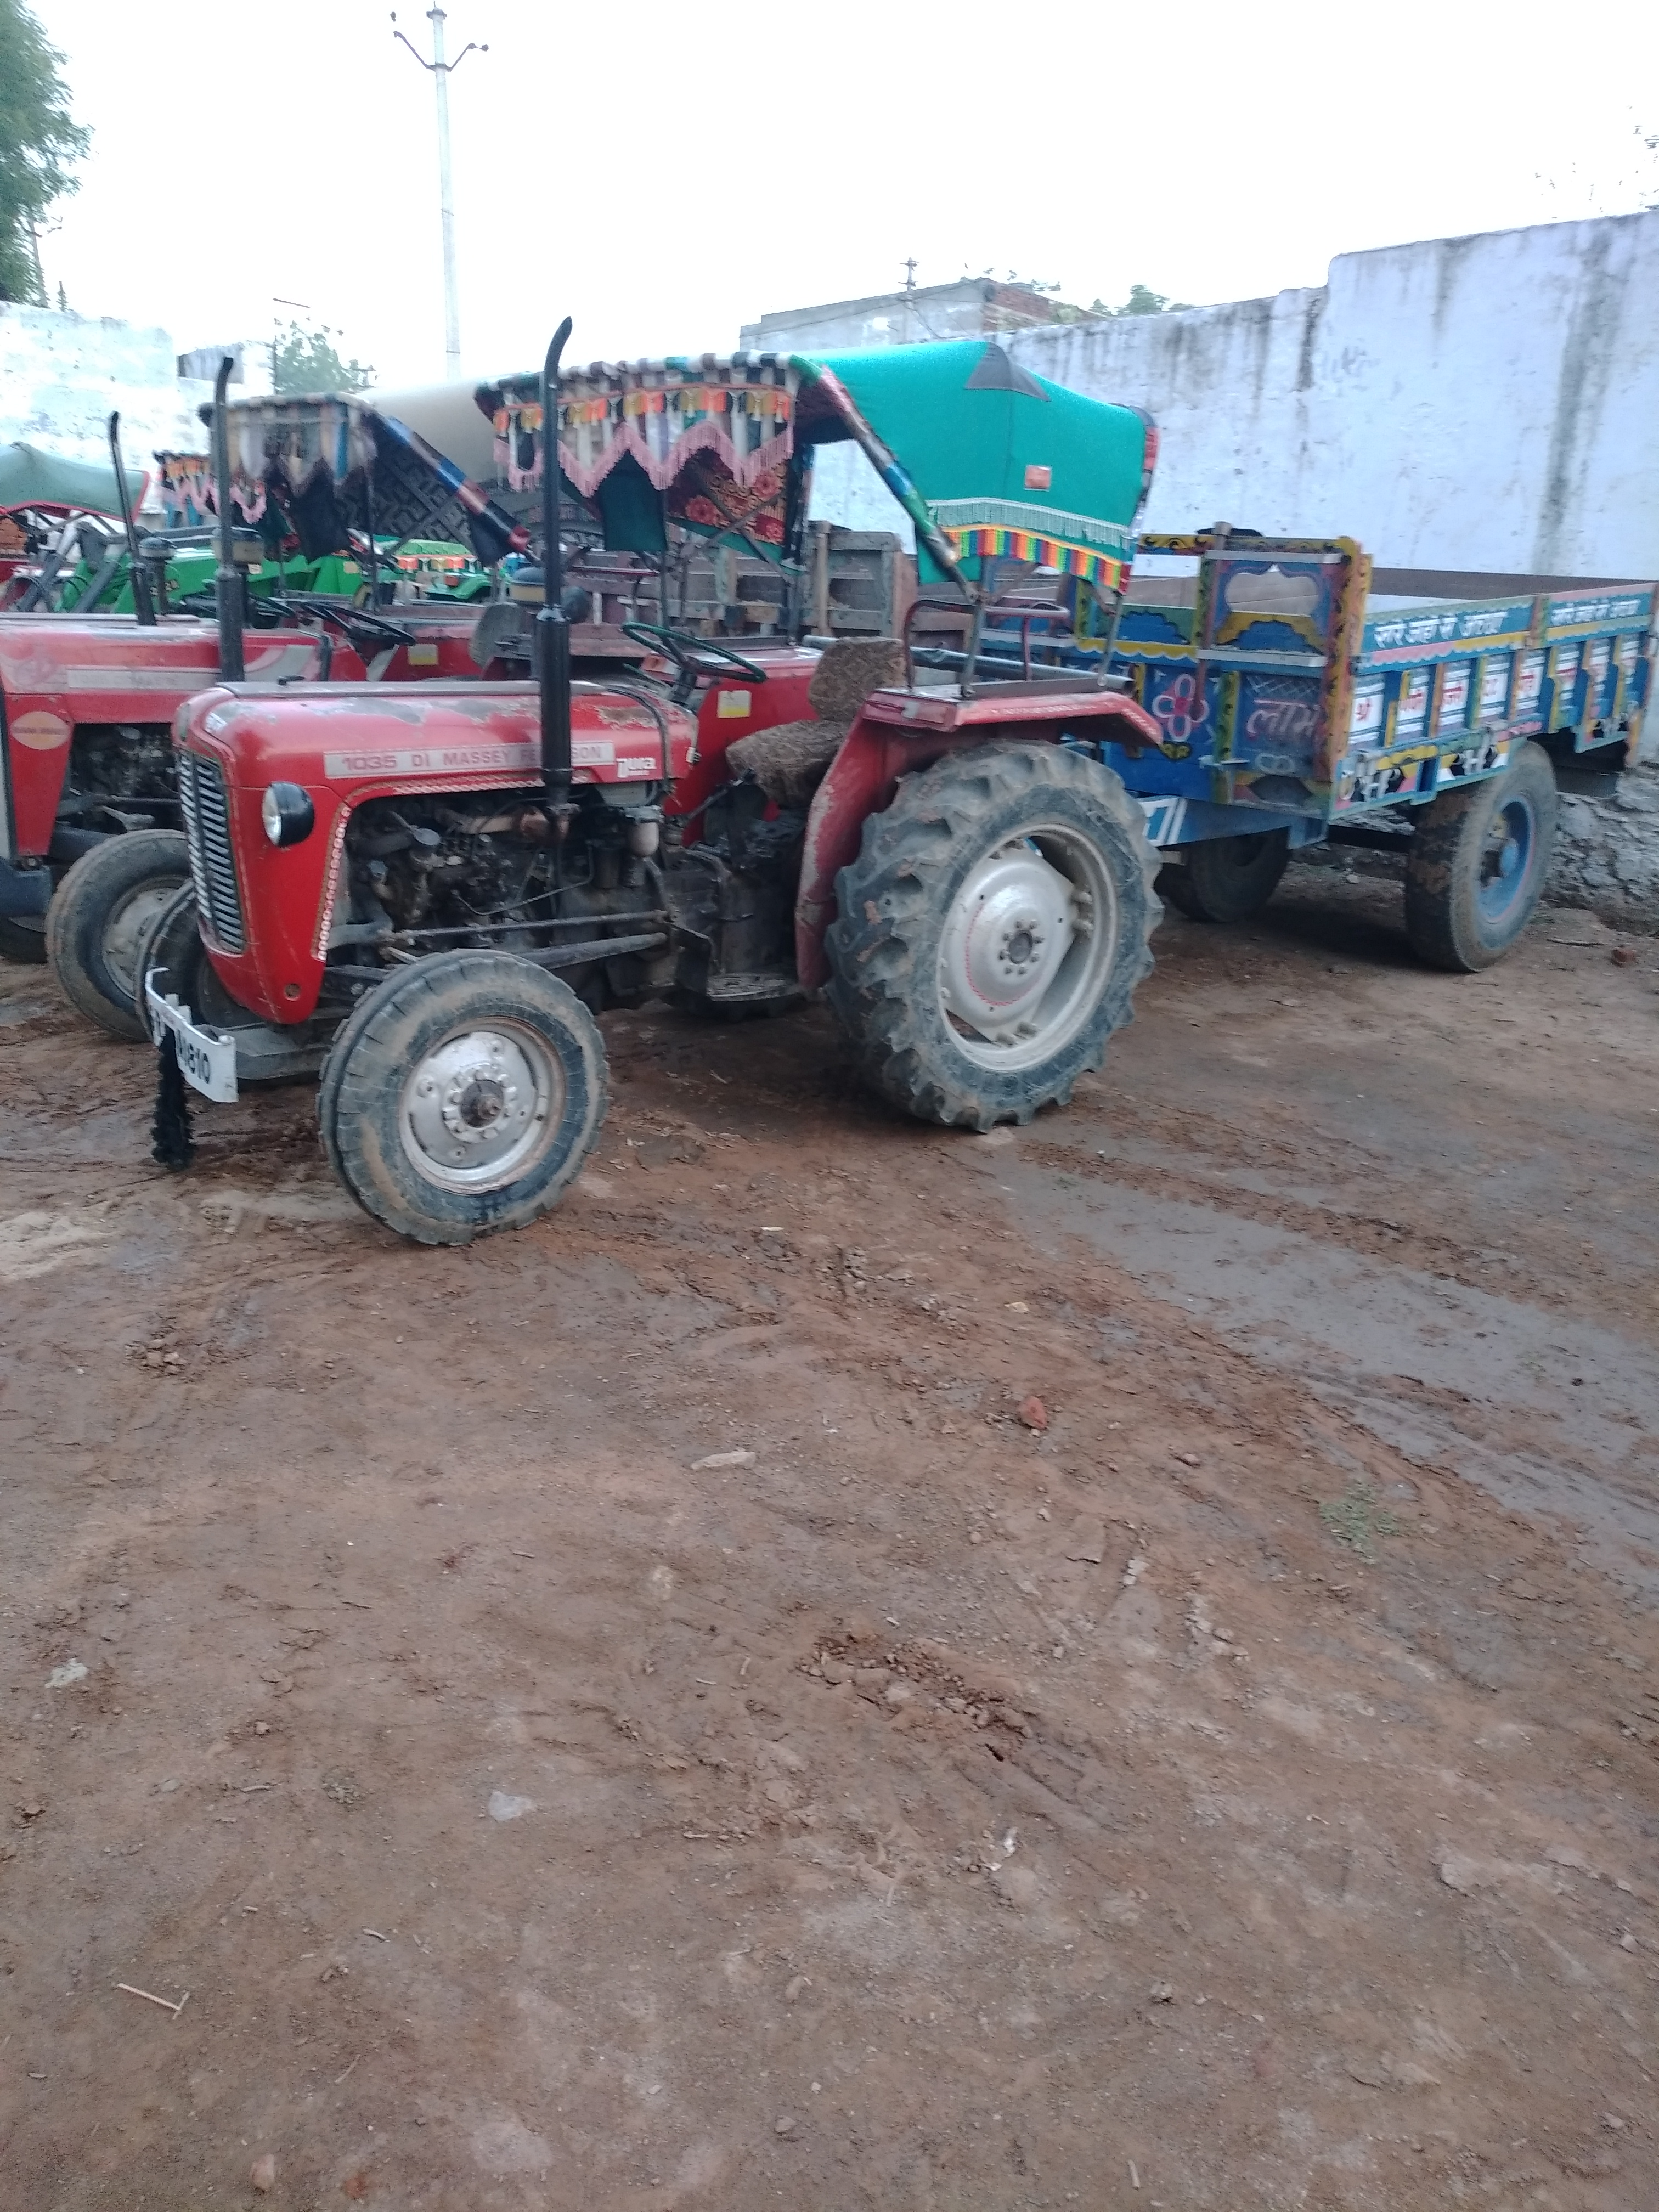truck: (143, 310, 1659, 1254), (0, 338, 931, 1049), (0, 408, 608, 634)
